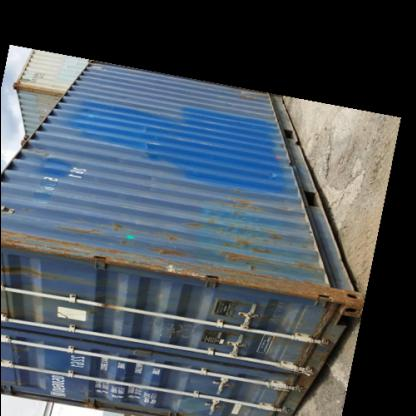Damage: (103, 257, 200, 289), (208, 306, 270, 345), (3, 263, 69, 291), (54, 218, 134, 238), (218, 248, 268, 274), (209, 190, 256, 216), (134, 121, 158, 169), (146, 231, 186, 255), (286, 255, 322, 277), (72, 100, 100, 126), (21, 146, 59, 165), (257, 162, 279, 184)
